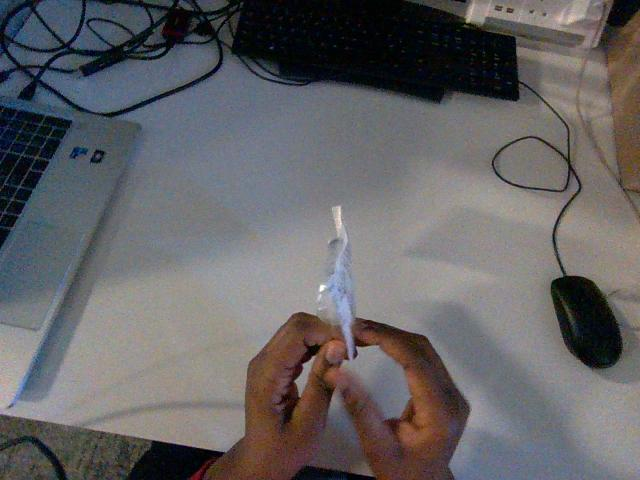syringe: (318, 206, 354, 359)
